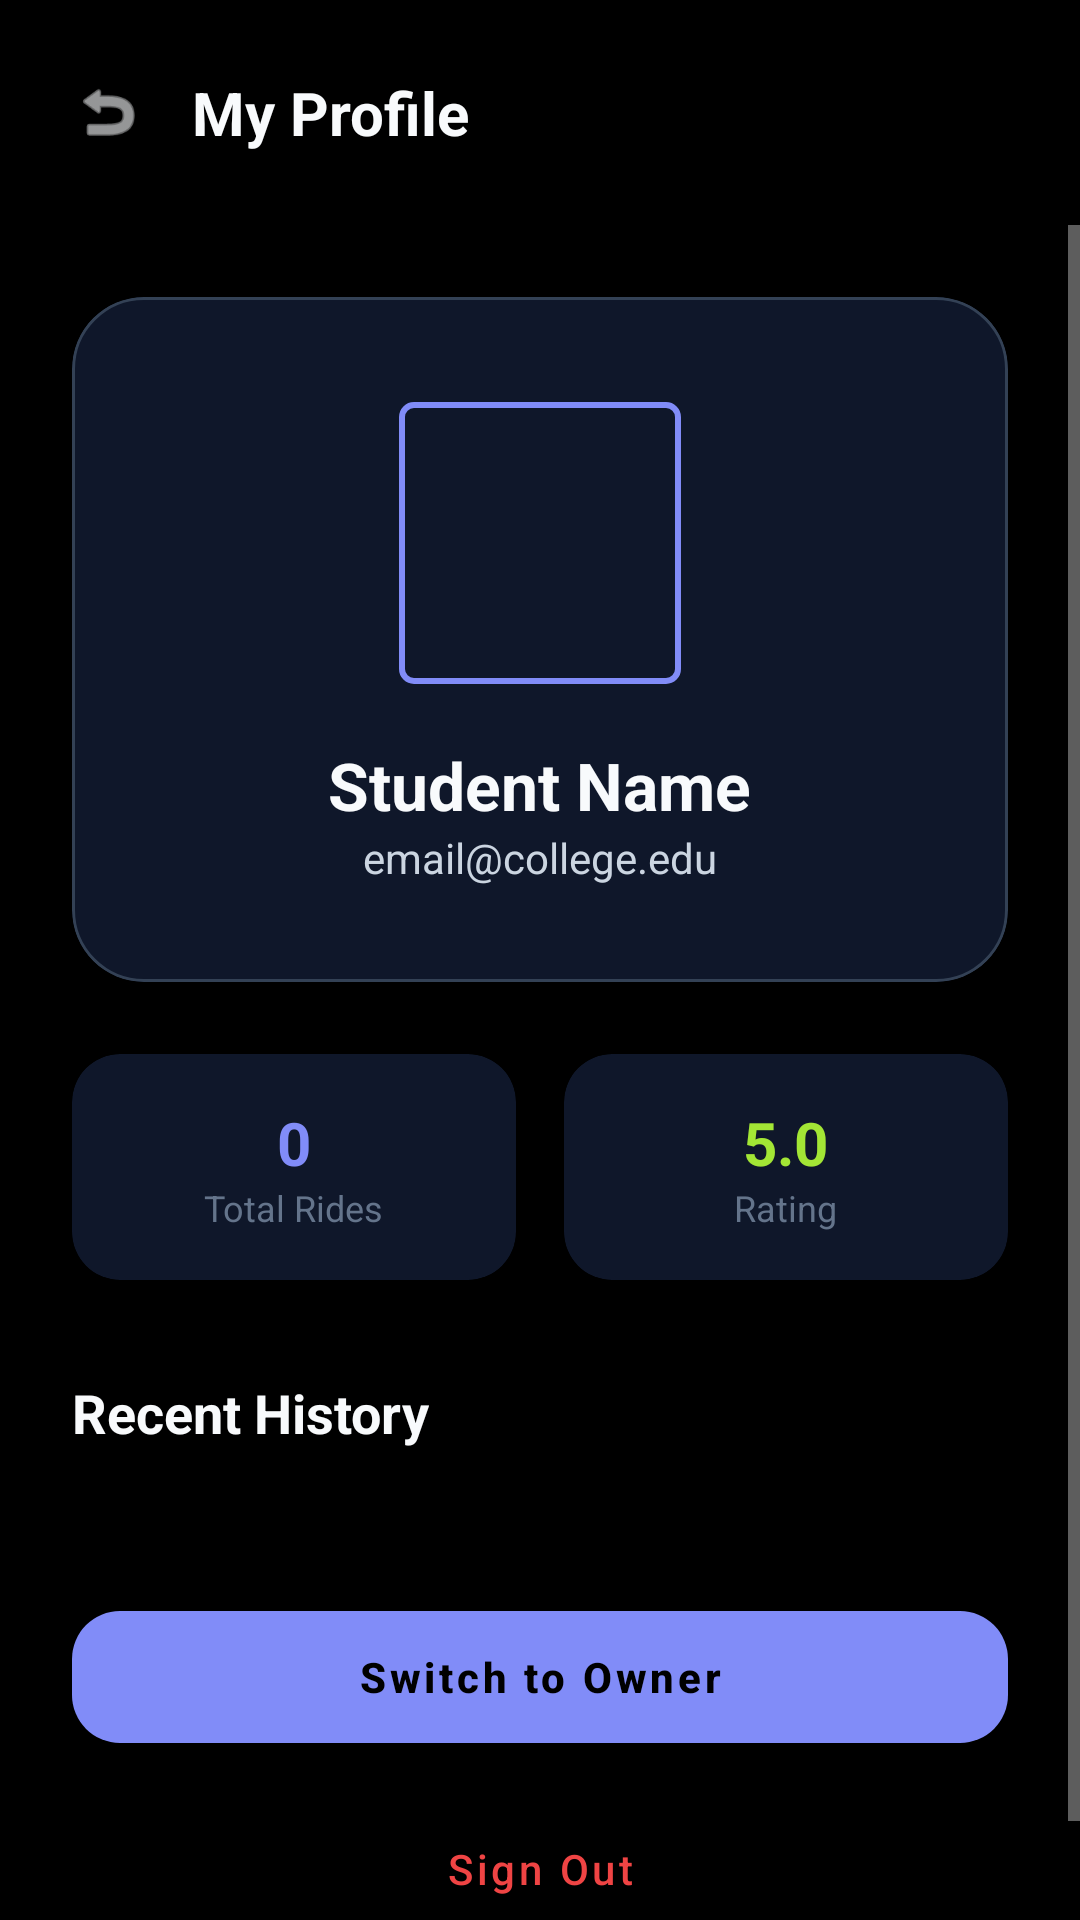

Locate icon controls on the screen. Image size 1080 × 1920, boxes as box=[x1, y1, x2, y2].
revert: box=[83, 89, 135, 136]
